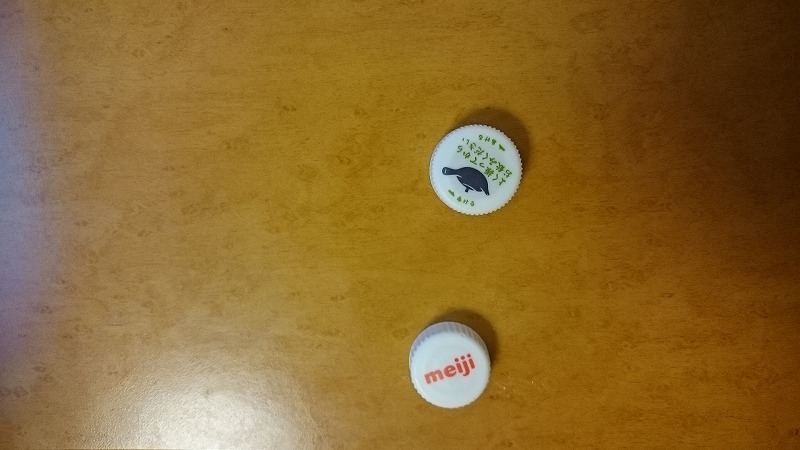A: (429, 123, 530, 216)
B: (402, 317, 498, 410)
